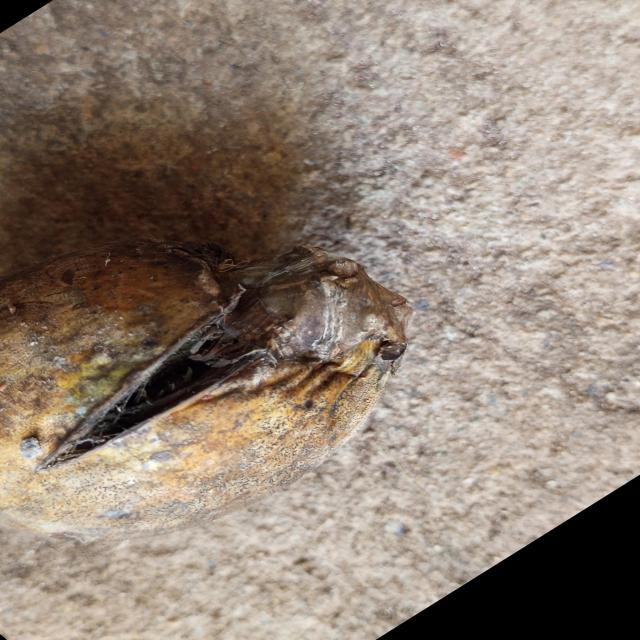damaged: (0, 240, 414, 526)
